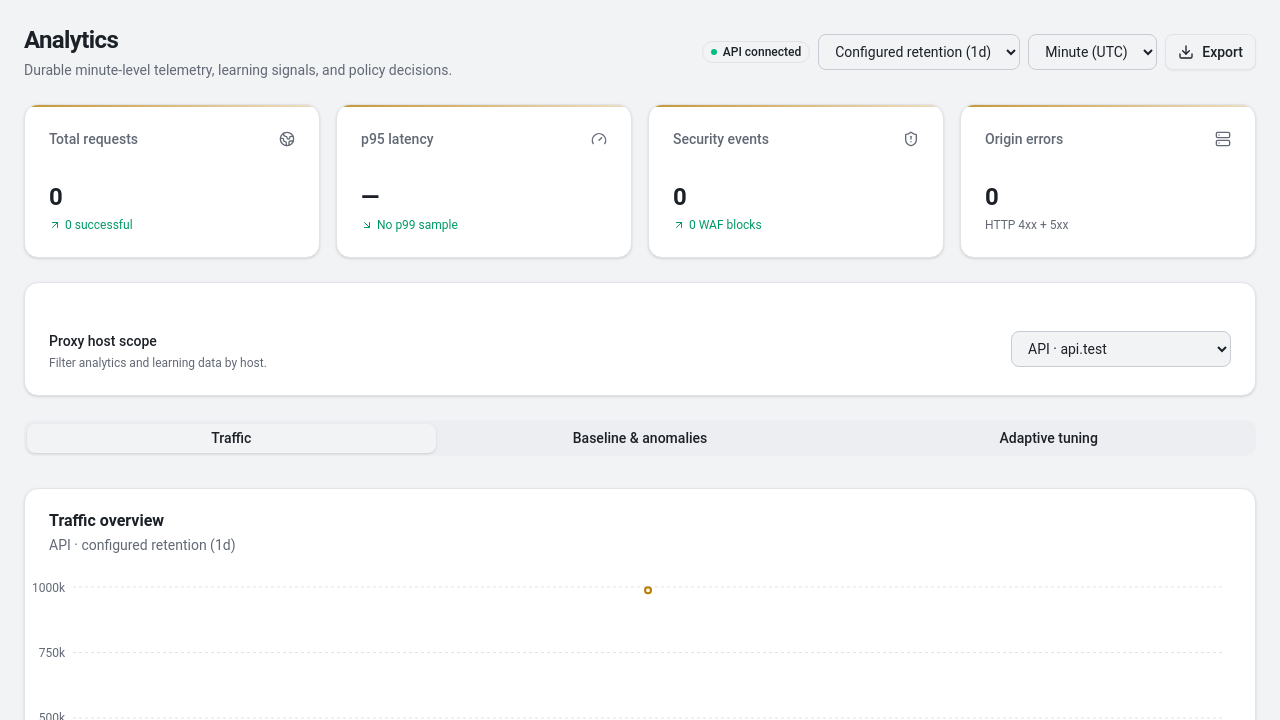
Test: clears old telemetry when a new interval request fails
Step 1. Select "Day (UTC)" in the dropdown named "Interval" → (1093, 52), box [1028,34,1157,70]
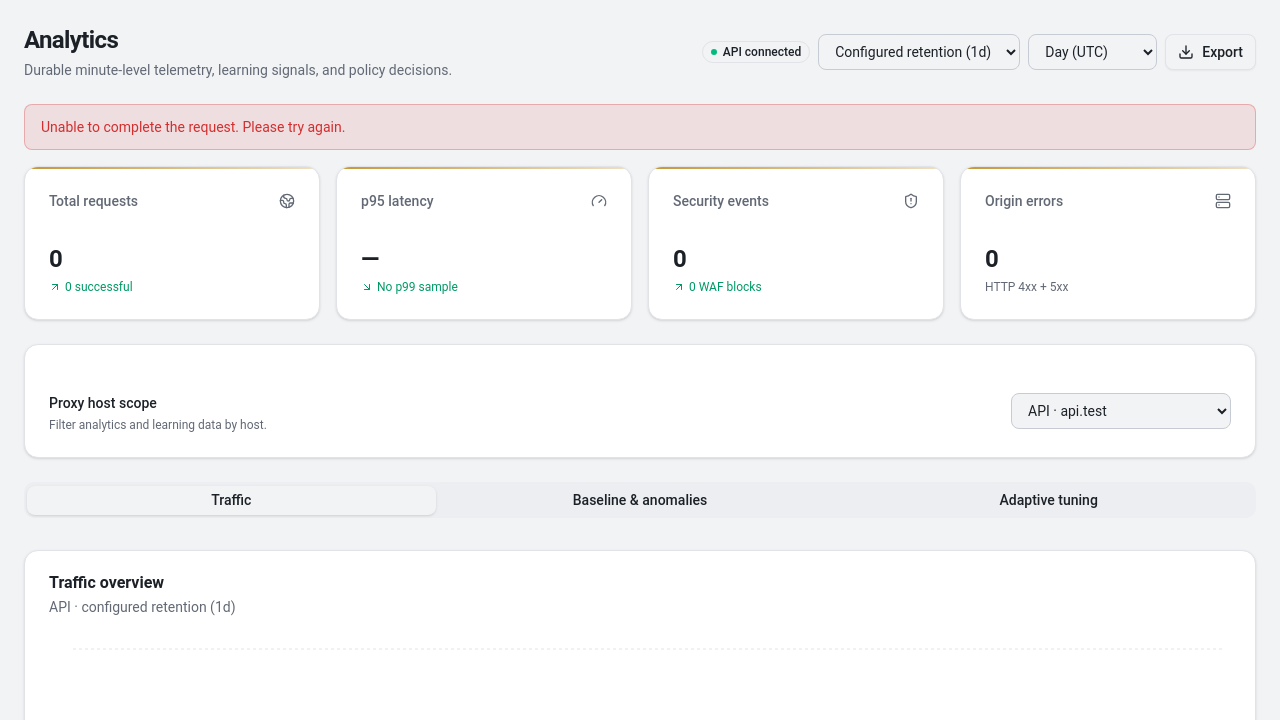
Result: the message "Unable to complete the request. Please try again." is shown at [24,104,1256,150]
